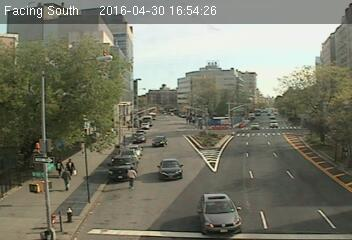neg: (19, 191, 52, 235), (209, 86, 241, 129), (188, 196, 220, 238), (298, 139, 324, 173), (265, 165, 288, 196), (281, 91, 299, 115), (118, 122, 134, 143), (202, 142, 216, 160), (265, 110, 274, 122), (215, 127, 223, 137), (151, 115, 156, 121), (170, 110, 174, 114)
pos: (57, 168, 76, 193), (63, 156, 81, 180)
